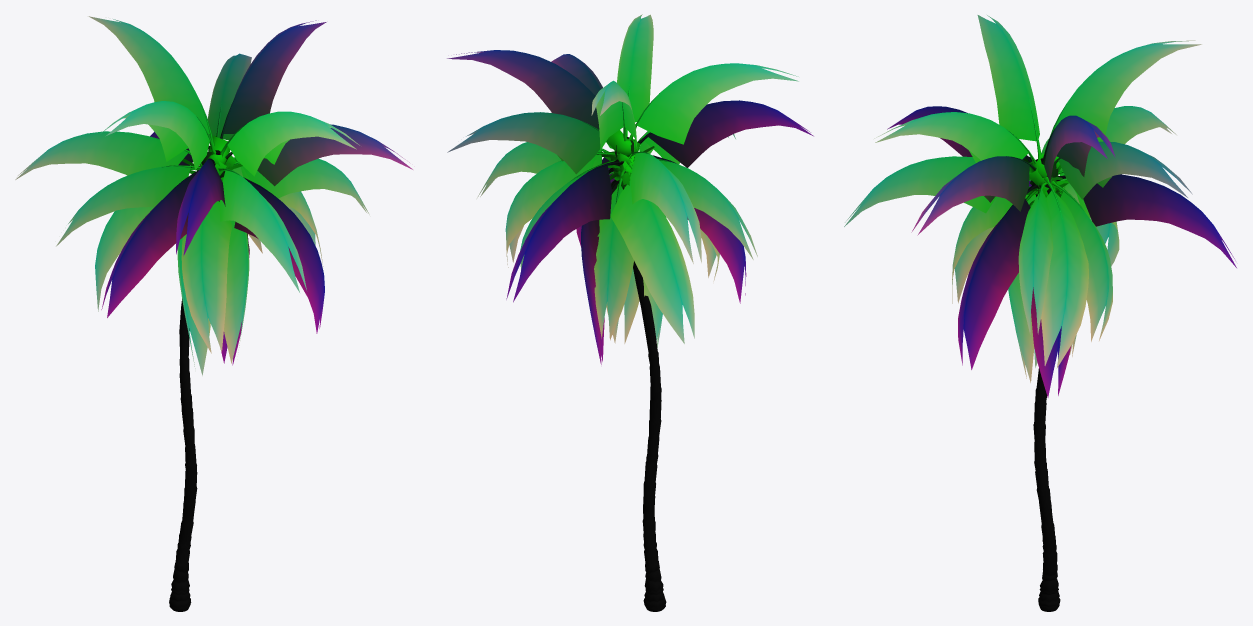
Rendered from SM_TreeIt_Palm.fbx.
The picture shows the model from 3 angles, left to right: view 1: azimuth 30°, elevation 25°; view 2: azimuth 150°, elevation 25°; view 3: azimuth 270°, elevation 25°; orthographic projection. The views are drawn at different scales.
Parts seen in each view (by area): view 1: coconut_palm2_1, coconut_palm1_0; view 2: coconut_palm2_1, coconut_palm1_0; view 3: coconut_palm2_1, coconut_palm1_0.
Boxes of the visible parts, x1,y1,x2,y2 form: coconut_palm2_1: [15, 16, 412, 375]; coconut_palm1_0: [149, 94, 280, 611]; coconut_palm2_1: [447, 14, 813, 364]; coconut_palm1_0: [558, 84, 676, 611]; coconut_palm2_1: [844, 15, 1236, 397]; coconut_palm1_0: [997, 99, 1087, 611].
Size of the model in its own units: 540 by 959 by 610.
